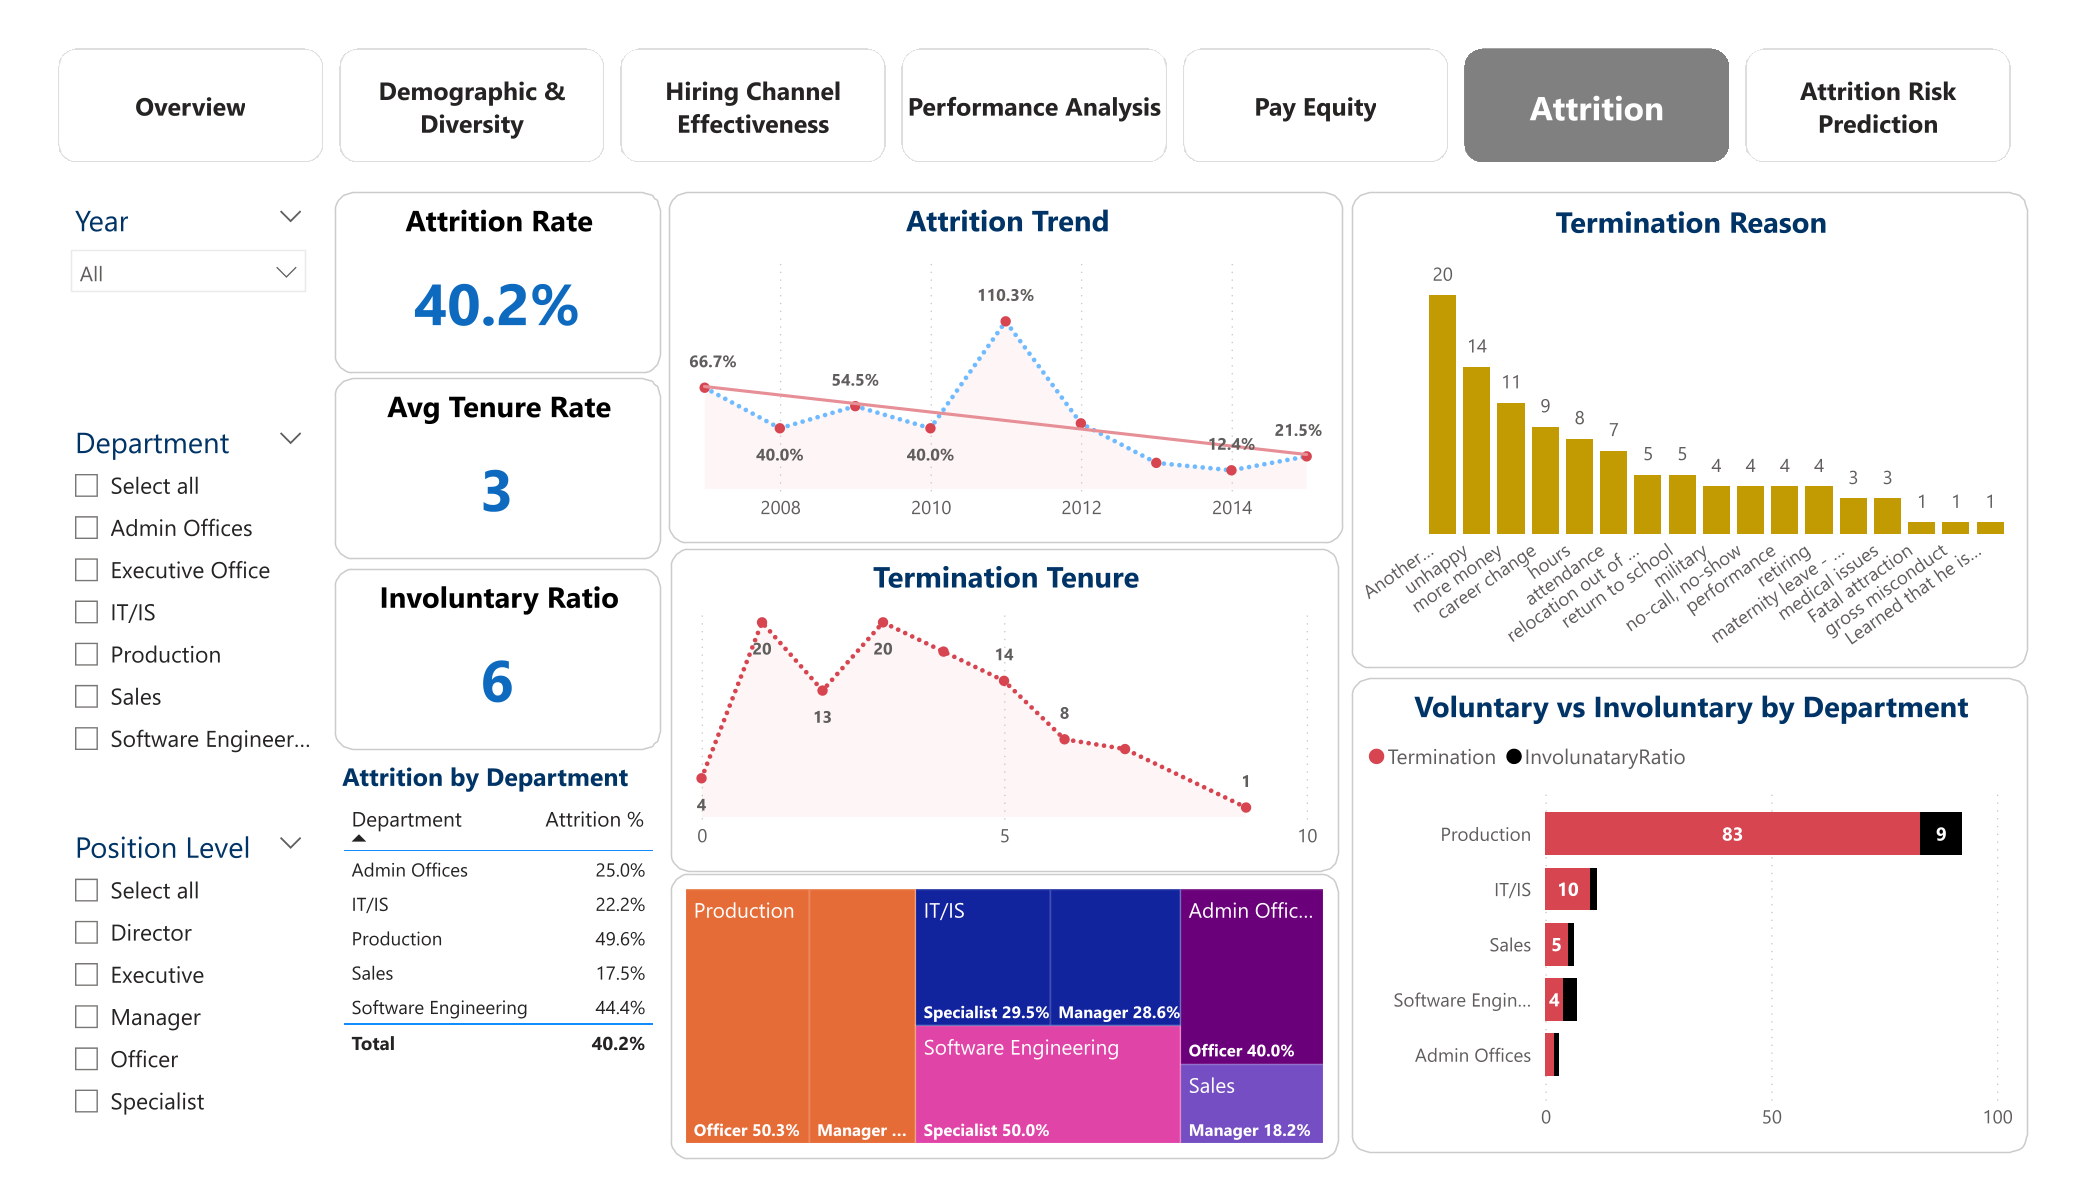

The dashboard page shown, as its layout file describes it:
{"tool":"powerbi","page":{"name":"Attrition","canvas":[1280,720],"ordinal":5},"visuals":[{"type":"slicer","fields":{"Values":["DIM-Dept.Department"]},"box":[11.4,240.8,170.8,248.9],"z":0},{"type":"slicer","fields":{"Values":["DIM-Position.Position Level"]},"box":[11.4,499.5,170.8,216.4],"z":1000},{"type":"slicer","fields":{"Values":["FACT-HRData.Dateo f Hire.Variation.Date Hierarchy.Year"]},"box":[11.4,99.3,170.8,123.7],"z":2000},{"type":"card","title":"Attrition Rate","fields":{"Values":["FACT-HRData.Attrition %"]},"box":[190.4,99.3,208.3,115.5],"z":3000},{"type":"card","title":"Avg Tenure Rate","fields":{"Values":["FACT-HRData.TenureAvgTer"]},"box":[190.4,218,208.3,115.5],"z":4000},{"type":"card","title":"Involuntary Ratio","fields":{"Values":["FACT-HRData.InvolunataryRatio"]},"box":[190.4,340.1,208.3,115.5],"z":5000},{"type":"clusteredColumnChart","title":"Termination Reason","fields":{"Category":["DIM-Termination.Term Reason"],"Y":["FACT-HRData.Termination"]},"box":[841.2,99.3,432.8,304.3],"z":6000},{"type":"barChart","title":"Voluntary vs Involuntary by Department","fields":{"Y":["FACT-HRData.Termination","FACT-HRData.VolvsInvol"],"Category":["DIM-Dept.Department"]},"box":[841.2,410,432.8,304.3],"z":7000},{"type":"lineChart","title":"Termination Tenure","fields":{"Y":["FACT-HRData.Termination"],"Category":["FACT-HRData.YearofService"]},"box":[405.2,327.1,427.9,206.6],"z":8000},{"type":"lineChart","title":"Attrition Trend","fields":{"Category":["FACT-HRData.Dateo f Hire.Variation.Date Hierarchy.Year"],"Y":["FACT-HRData.Attrition %"]},"box":[403.5,99.3,432.8,224.5],"z":9000},{"type":"treemap","title":"Attrition by Department","fields":{"Group":["DIM-Dept.Department"],"Values":["FACT-HRData.Attrition %"],"Details":["DIM-Position.Position Level"]},"box":[405.2,535.3,427.9,182.2],"z":10000},{"type":"tableEx","title":"Attrition by Department","fields":{"Values":["DIM-Dept.Department","FACT-HRData.Attrition %"]},"box":[190.4,462.1,208.3,252.2],"z":11000},{"type":"pageNavigator","box":[13.3,6.7,1255,73.3],"z":12000}]}

Visuals, with their boxes on the page's 1280x720 design canvas (x1, y1, x2, y2). These are canvas units, not pixel positions in the 2075x1200 screenshot, which may show the page scaled, cropped or inside an application window:
slicer - DIM-Dept.Department: 11/241/182/490
slicer - DIM-Position.Position Level: 11/500/182/716
slicer - FACT-HRData.Dateo f Hire.Variation.Date Hierarchy.Year: 11/99/182/223
"Attrition Rate" card: 190/99/399/215
"Avg Tenure Rate" card: 190/218/399/334
"Involuntary Ratio" card: 190/340/399/456
"Termination Reason" clusteredColumnChart: 841/99/1274/404
"Voluntary vs Involuntary by Department" barChart: 841/410/1274/714
"Termination Tenure" lineChart: 405/327/833/534
"Attrition Trend" lineChart: 404/99/836/324
"Attrition by Department" treemap: 405/535/833/718
"Attrition by Department" tableEx: 190/462/399/714
pageNavigator: 13/7/1268/80
